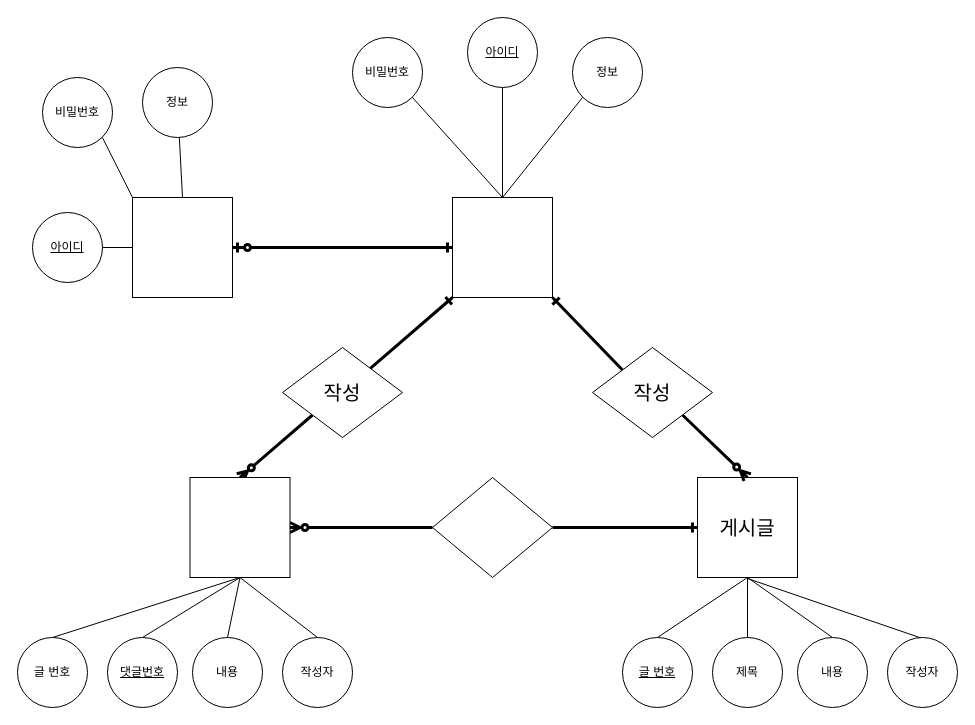
The diagram is 975 pixels wide and 725 high, and some of its shapes have lost their labels. The centre of each missing label's shape, as x and y in pixels:
"관리자" goes at (182,247).
"댓글" goes at (239,527).
"포함" goes at (492,527).
"회원" goes at (502,247).
